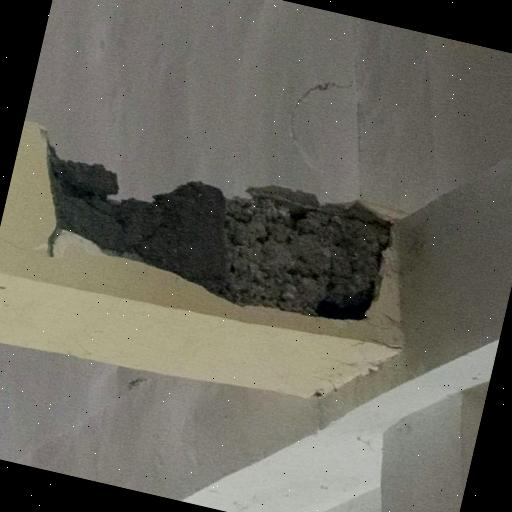spalling: (50, 136, 386, 313)
